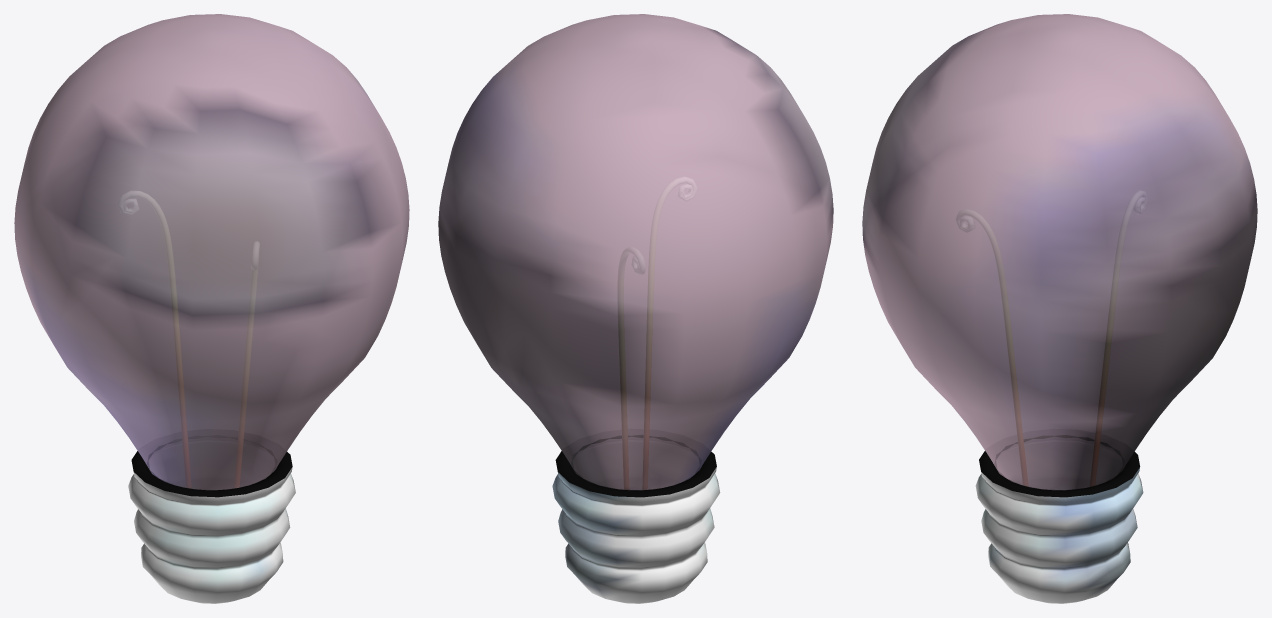
The model's file is white bulb.fbx.
The picture shows the model from 3 angles, left to right: view 1: azimuth 30°, elevation 25°; view 2: azimuth 150°, elevation 25°; view 3: azimuth 270°, elevation 25°; orthographic projection.
Visible parts, largest first — view 1: bulb:bulb, bulb:flower, bulb:leaf; view 2: bulb:bulb, bulb:flower, bulb:leaf; view 3: bulb:bulb, bulb:flower, bulb:leaf.
Part boxes in pixels (x1=…): bulb:bulb: x1=14, y1=14, x2=409, y2=490; bulb:flower: x1=128, y1=435, x2=295, y2=603; bulb:leaf: x1=118, y1=191, x2=259, y2=487; bulb:bulb: x1=438, y1=14, x2=833, y2=490; bulb:flower: x1=552, y1=435, x2=720, y2=603; bulb:leaf: x1=618, y1=177, x2=696, y2=489; bulb:bulb: x1=862, y1=14, x2=1257, y2=490; bulb:flower: x1=975, y1=435, x2=1143, y2=603; bulb:leaf: x1=956, y1=191, x2=1146, y2=485.
Bounding box in the file's own units: 4.58 × 7.13 × 4.59.
